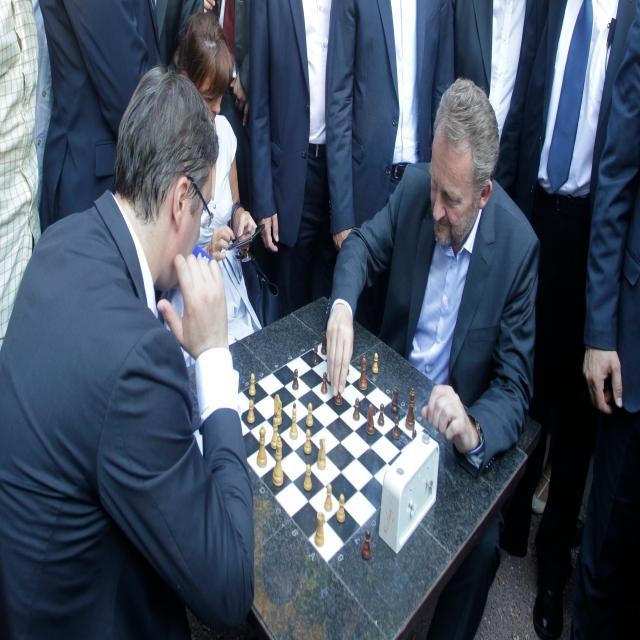chess-table-corners: (318, 550, 334, 572)
